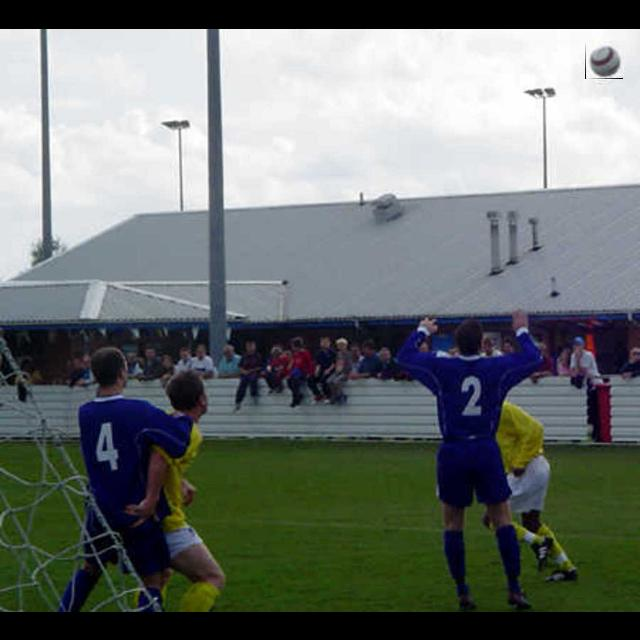Football: (585, 41, 623, 79)
